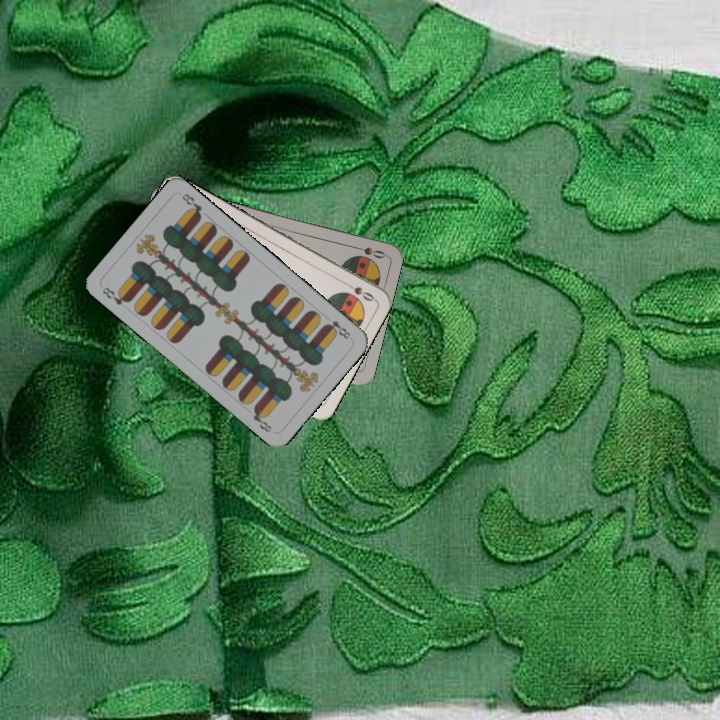E8: (98, 283, 133, 308), (321, 316, 353, 342)
SO: (339, 278, 377, 304), (348, 242, 388, 261)
